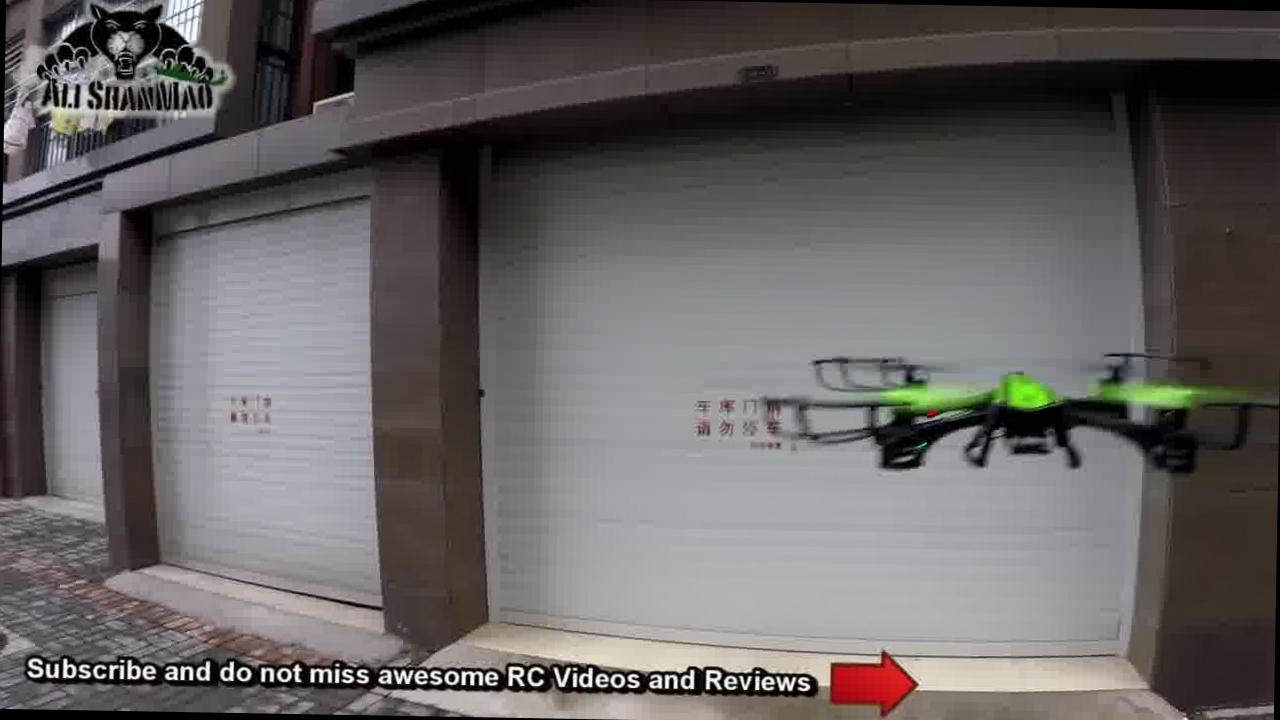drone: (758, 335, 1279, 483)
